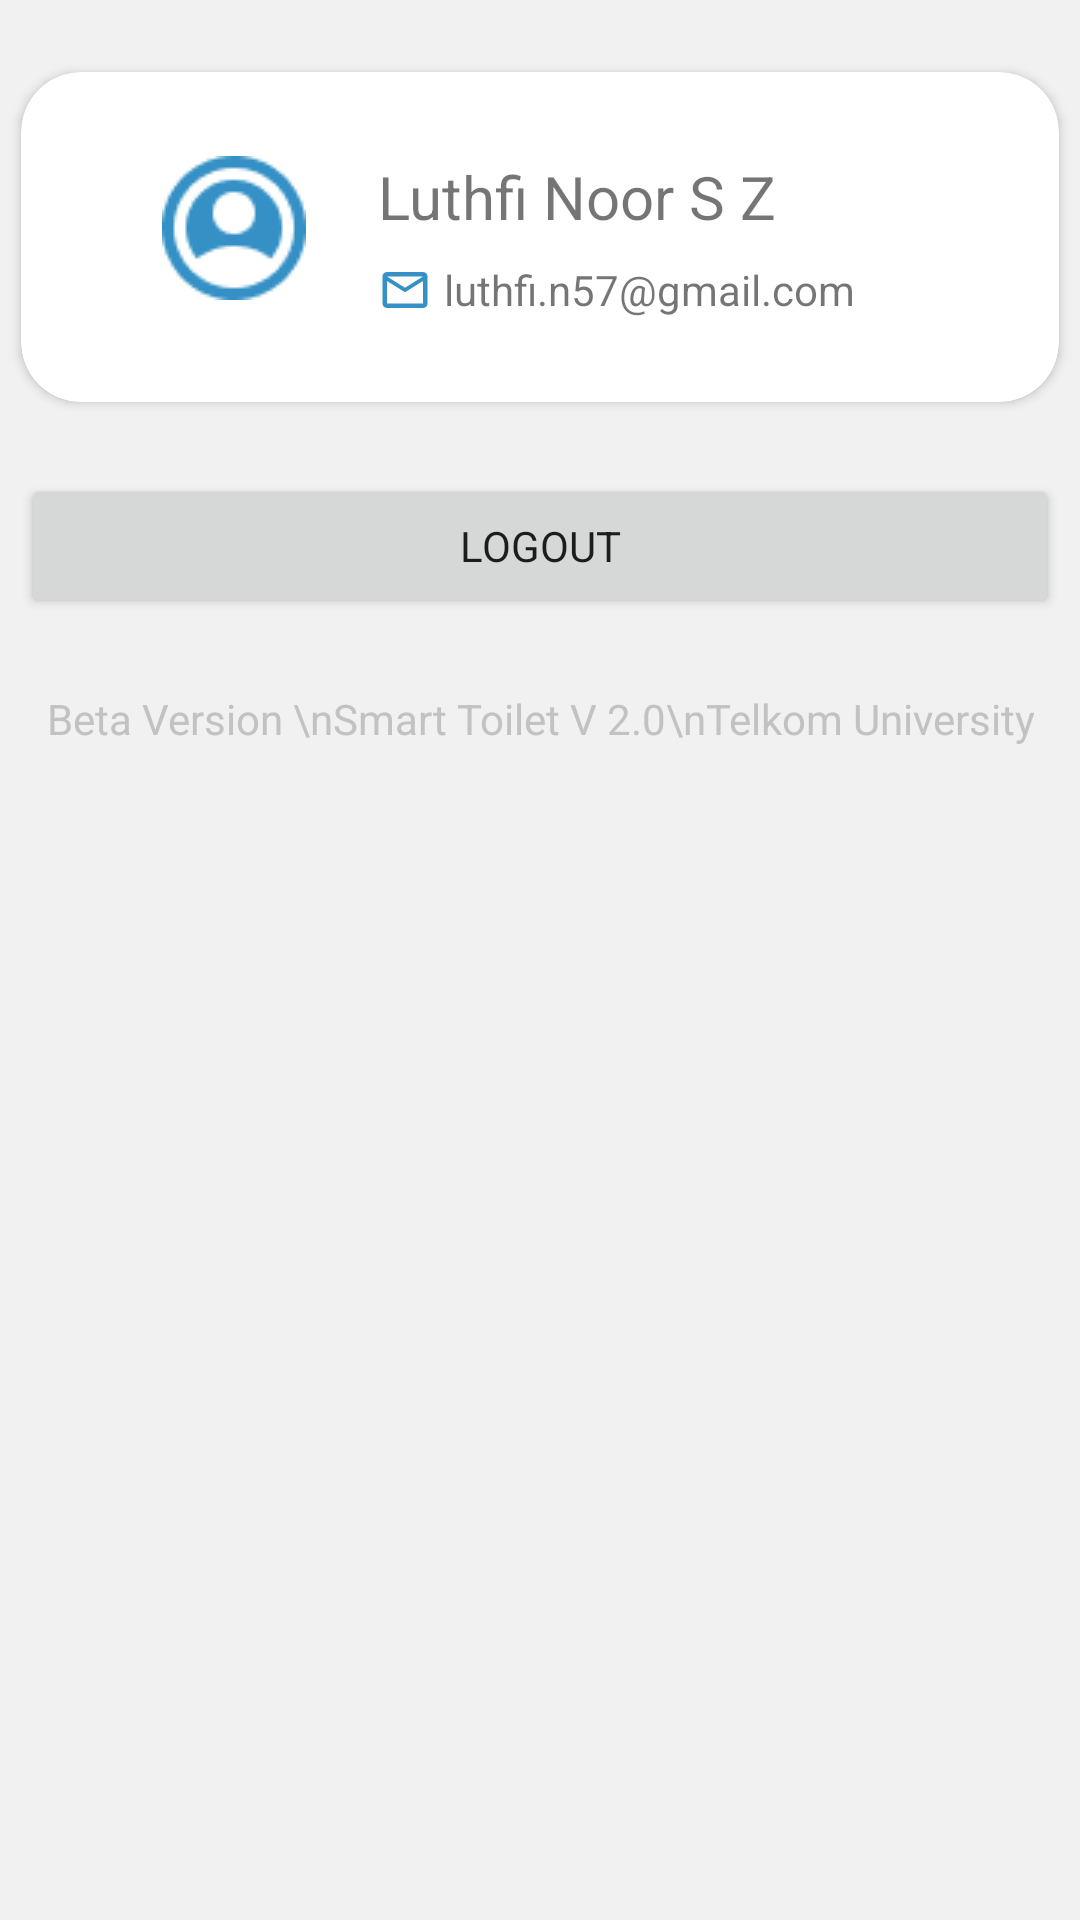

Where to tap for icons on this 1080 x 1920 app screen, as [x,y]:
account: [234,228]
email: [405,290]
